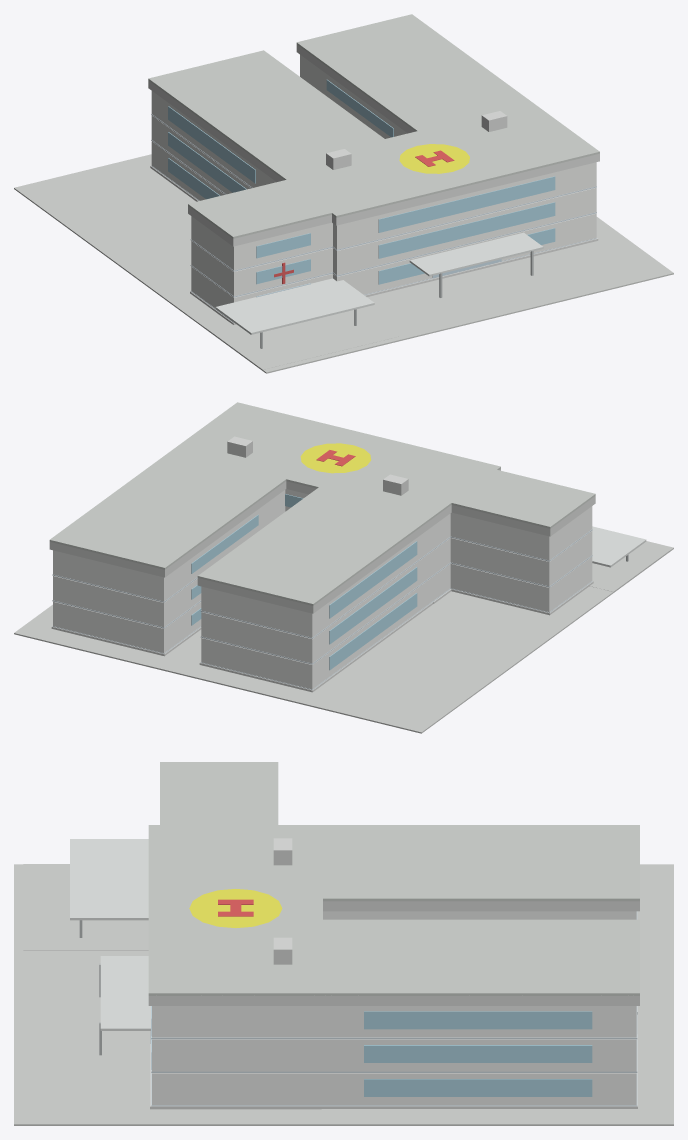
The model's file is hospital.glb.
3 renders of one model, top to bottom at view 1: azimuth 30°, elevation 25°; view 2: azimuth 150°, elevation 25°; view 3: azimuth 270°, elevation 25°, orthographic. The views are drawn at different scales.
Visible parts, largest first — view 1: site_pave, op_roof, wdA_roof, wdB_roof, er_driveway, er_roof, pch_roof, op_wall_f2, op_wall_f3, op_wall_f1, er_wall_f2, er_wall_f3 (+21 smaller); view 2: site_pave, op_roof, wdA_roof, wdB_roof, er_roof, wdA_wall_f3, wdB_wall_f1, wdB_wall_f2, wdB_wall_f3, wdA_wall_f1, wdA_wall_f2, er_wall_f2 (+16 smaller); view 3: site_pave, op_roof, wdB_roof, wdA_roof, er_roof, er_driveway, pch_roof, wdA_wall_f2, wdA_wall_f1, wdA_wall_f3, op_wall_f1, op_wall_f2 (+17 smaller).
Part boxes in pixels (bbox=[...]): site_pave: bbox=[14, 154, 673, 373]; op_roof: bbox=[269, 104, 599, 217]; wdA_roof: bbox=[296, 14, 534, 132]; wdB_roof: bbox=[148, 50, 386, 168]; er_driveway: bbox=[206, 308, 398, 369]; er_roof: bbox=[188, 179, 335, 238]; pch_roof: bbox=[215, 278, 374, 334]; op_wall_f2: bbox=[333, 187, 596, 275]; op_wall_f3: bbox=[273, 162, 596, 249]; op_wall_f1: bbox=[333, 213, 596, 294]; er_wall_f2: bbox=[191, 241, 332, 296]; er_wall_f3: bbox=[191, 216, 332, 270]; site_pave: bbox=[14, 541, 673, 733]; op_roof: bbox=[171, 402, 500, 515]; wdA_roof: bbox=[49, 450, 288, 569]; wdB_roof: bbox=[197, 485, 436, 605]; er_roof: bbox=[447, 468, 595, 528]; wdA_wall_f3: bbox=[53, 490, 285, 601]; wdB_wall_f1: bbox=[201, 576, 433, 689]; wdB_wall_f2: bbox=[201, 550, 433, 663]; wdB_wall_f3: bbox=[201, 526, 433, 637]; wdA_wall_f1: bbox=[53, 601, 201, 652]; wdA_wall_f2: bbox=[53, 575, 201, 627]; er_wall_f2: bbox=[450, 531, 592, 586]; site_pave: bbox=[14, 864, 673, 1125]; op_roof: bbox=[148, 825, 322, 995]; wdB_roof: bbox=[316, 825, 639, 901]; wdA_roof: bbox=[316, 919, 639, 995]; er_roof: bbox=[160, 762, 278, 827]; er_driveway: bbox=[23, 864, 148, 950]; pch_roof: bbox=[70, 839, 148, 920]; wdA_wall_f2: bbox=[319, 1039, 636, 1071]; wdA_wall_f1: bbox=[319, 1073, 636, 1105]; wdA_wall_f3: bbox=[319, 1006, 636, 1037]; op_wall_f1: bbox=[152, 1073, 319, 1105]; op_wall_f2: bbox=[152, 1039, 319, 1071].
Bounding box in the file's own units: 66 × 15.8 × 70.8.
